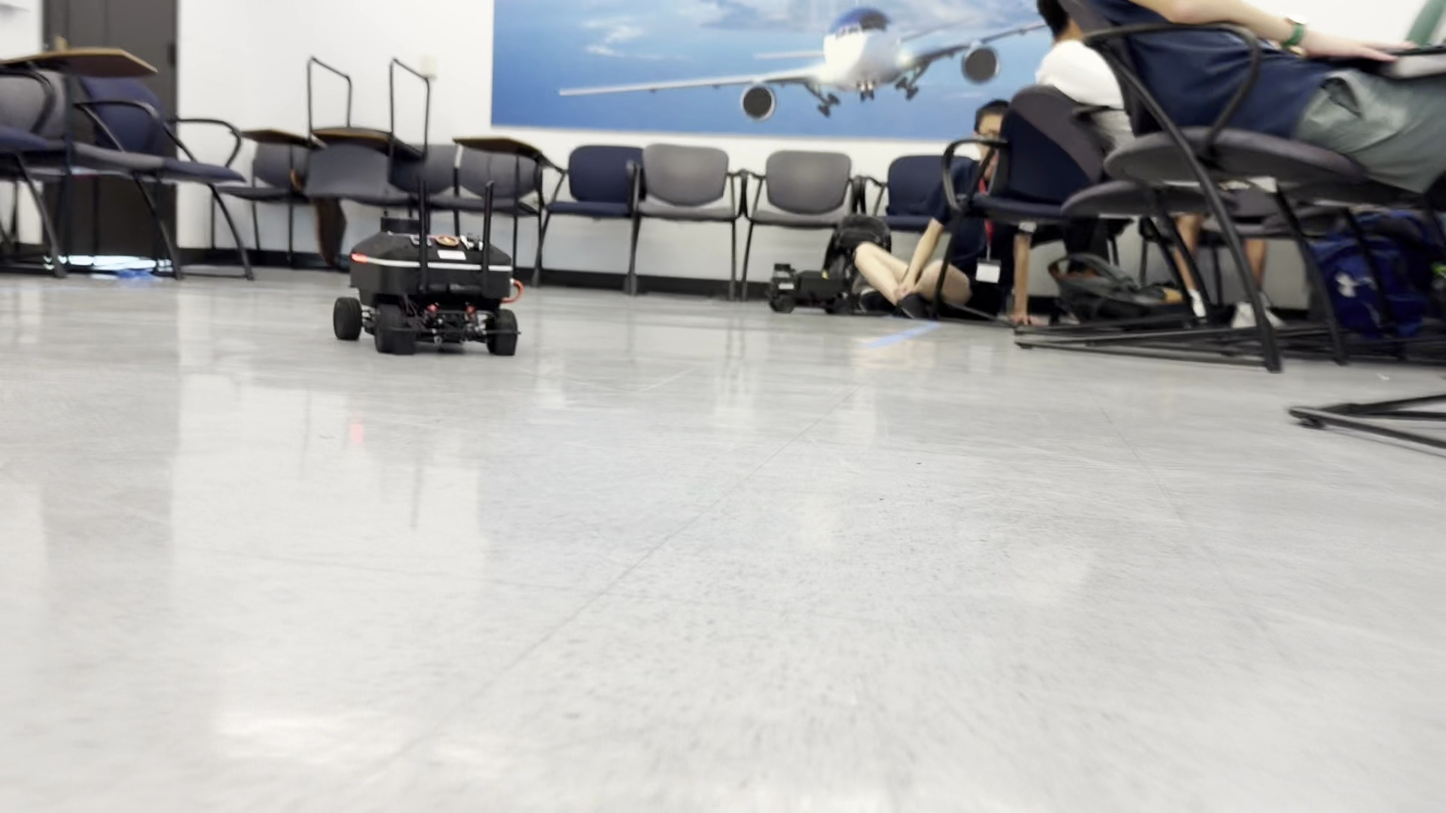racecar: (337, 223, 525, 359)
